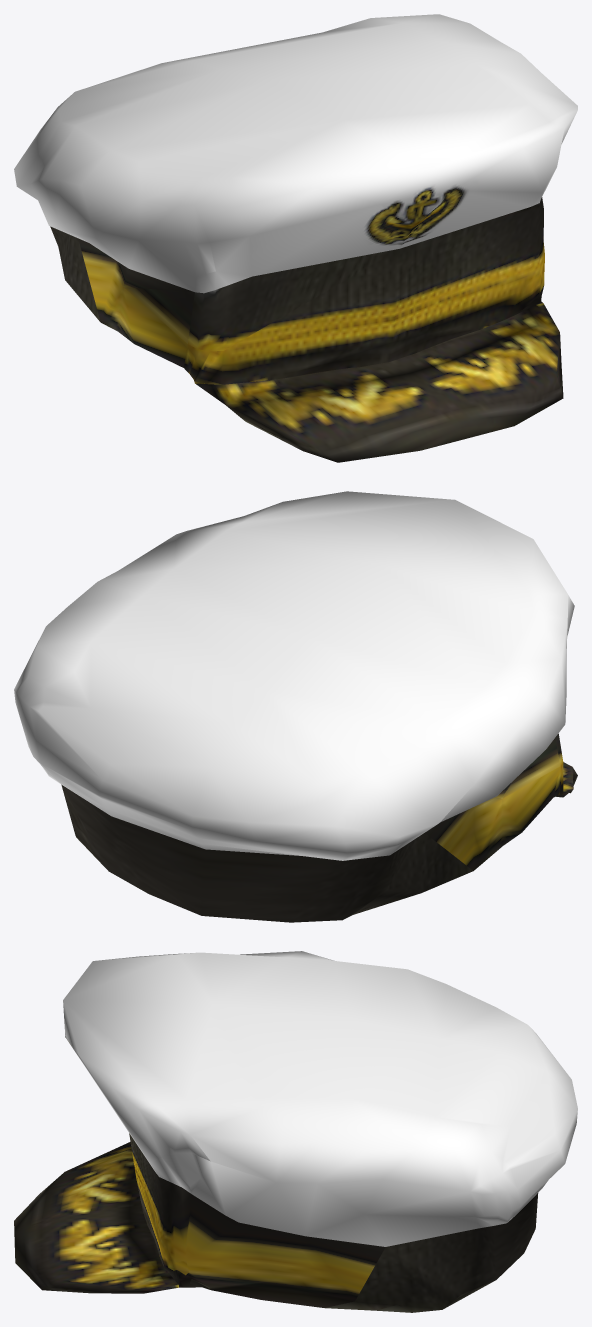
File: WorldItem_CaptainsHat.fbx
3 views of the same model, one above another, from view 1: azimuth 30°, elevation 25°; view 2: azimuth 150°, elevation 25°; view 3: azimuth 270°, elevation 25° (orthographic). The views are drawn at different scales.
Visible parts, largest first — view 1: CaptainsHat; view 2: CaptainsHat; view 3: CaptainsHat.
Boxes of the visible parts, x1,y1,x2,y2 form: CaptainsHat: (14,14,577,462); CaptainsHat: (14,491,577,922); CaptainsHat: (14,951,577,1312).
Bounding box in the file's own units: 0.1848 × 0.0961 × 0.2036.
